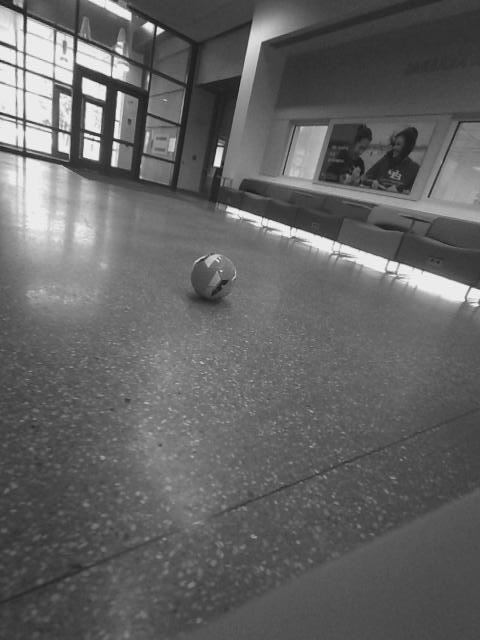ball: (179, 242, 229, 293)
